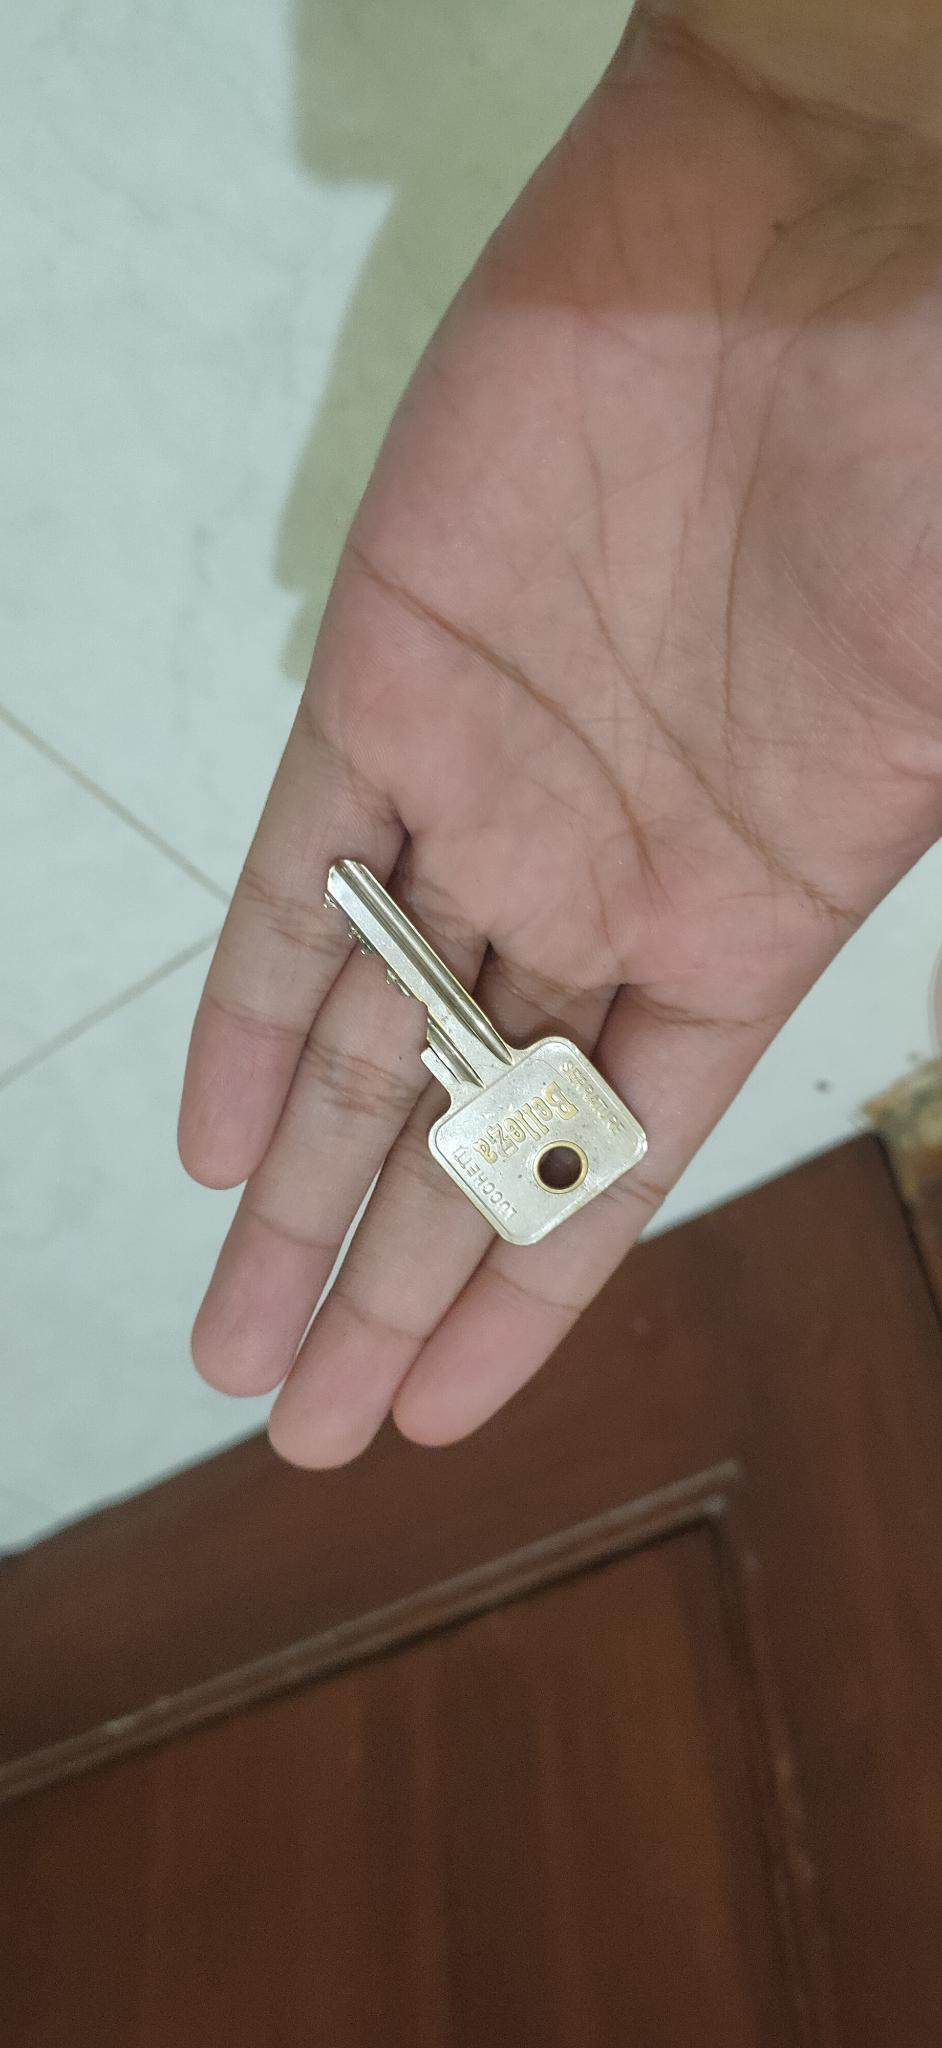keys: (307, 845, 669, 1254)
